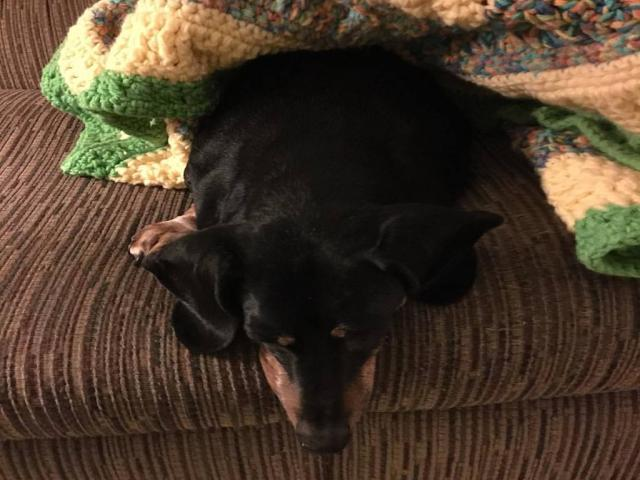Dog: (127, 43, 505, 454)
